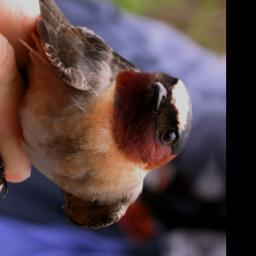Swallow: (0, 0, 202, 234)
